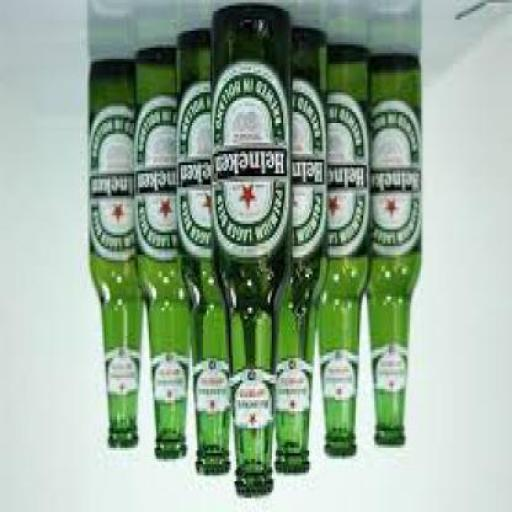glass: (214, 5, 294, 490), (178, 31, 236, 470), (276, 31, 327, 470), (365, 59, 423, 439), (138, 50, 192, 450), (91, 61, 145, 445), (320, 47, 370, 451)
metal: (236, 482, 276, 504), (278, 462, 310, 478), (328, 442, 358, 459), (114, 436, 141, 454), (378, 434, 407, 450), (201, 467, 231, 482), (158, 454, 188, 464)
